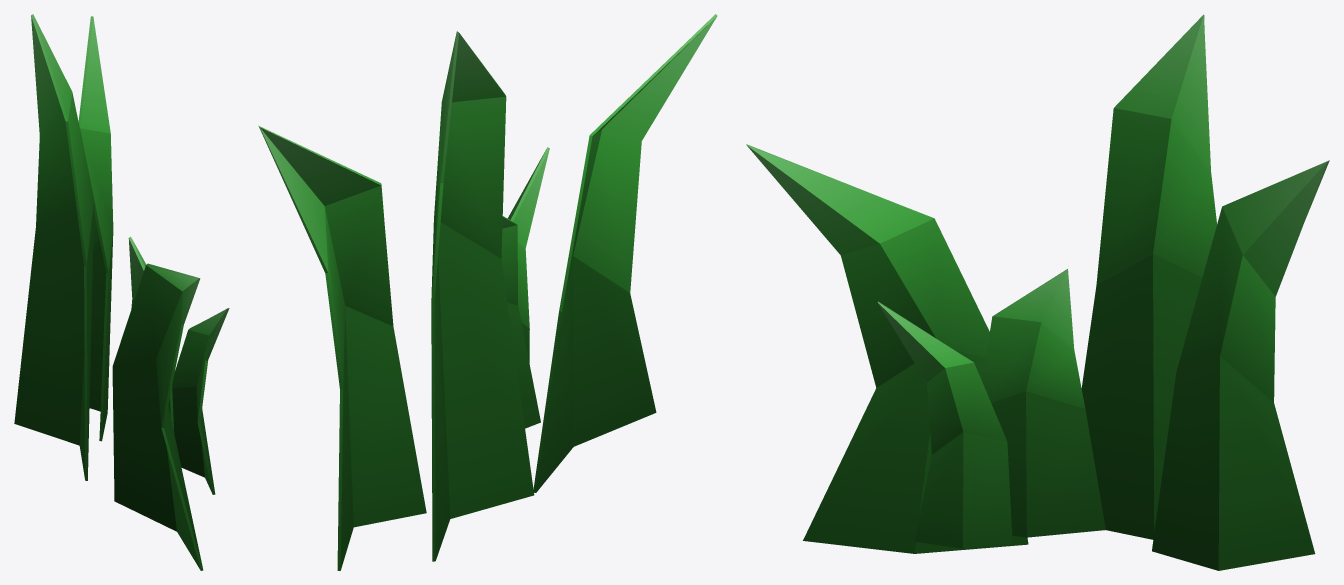
File: Grass-1-5.fbx
The picture shows the model from 3 angles, left to right: view 1: azimuth 30°, elevation 25°; view 2: azimuth 150°, elevation 25°; view 3: azimuth 270°, elevation 25°; orthographic projection. The views are drawn at different scales.
Visible parts, largest first — view 1: Grass-1-5; view 2: Grass-1-5; view 3: Grass-1-5.
Part boxes in pixels (x1,y1,x2,y2): Grass-1-5: (14, 14, 229, 570); Grass-1-5: (258, 14, 717, 570); Grass-1-5: (746, 14, 1329, 570).
Bounding box in the file's own units: 23.3 × 71.05 × 71.6.
